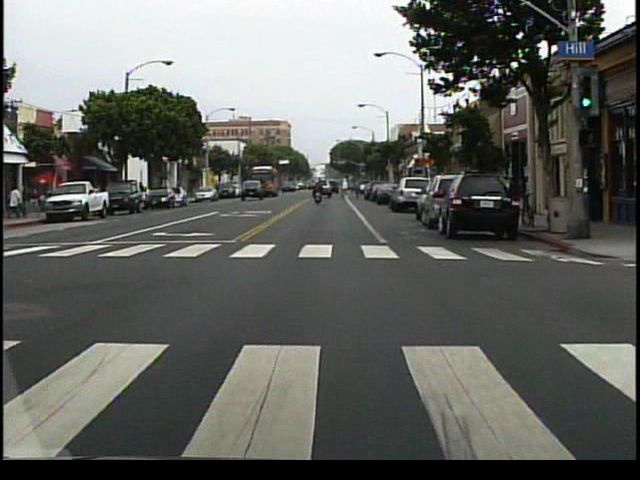person: (9, 183, 26, 221), (313, 179, 326, 206)
